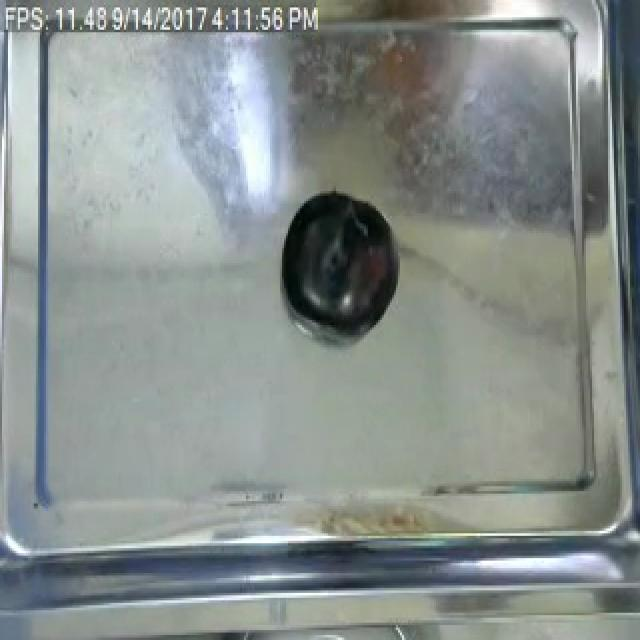Fruit: (276, 188, 400, 338)
